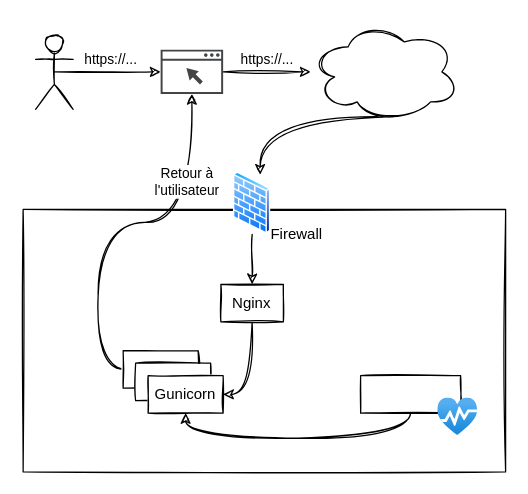
Image size: 528x494. Some labels were removed from this diagram. The centre of each missing label's shape, as x and y in pixels:
"Supervisord" goes at [410,393].
"Utilisateur" goes at [53,71].
